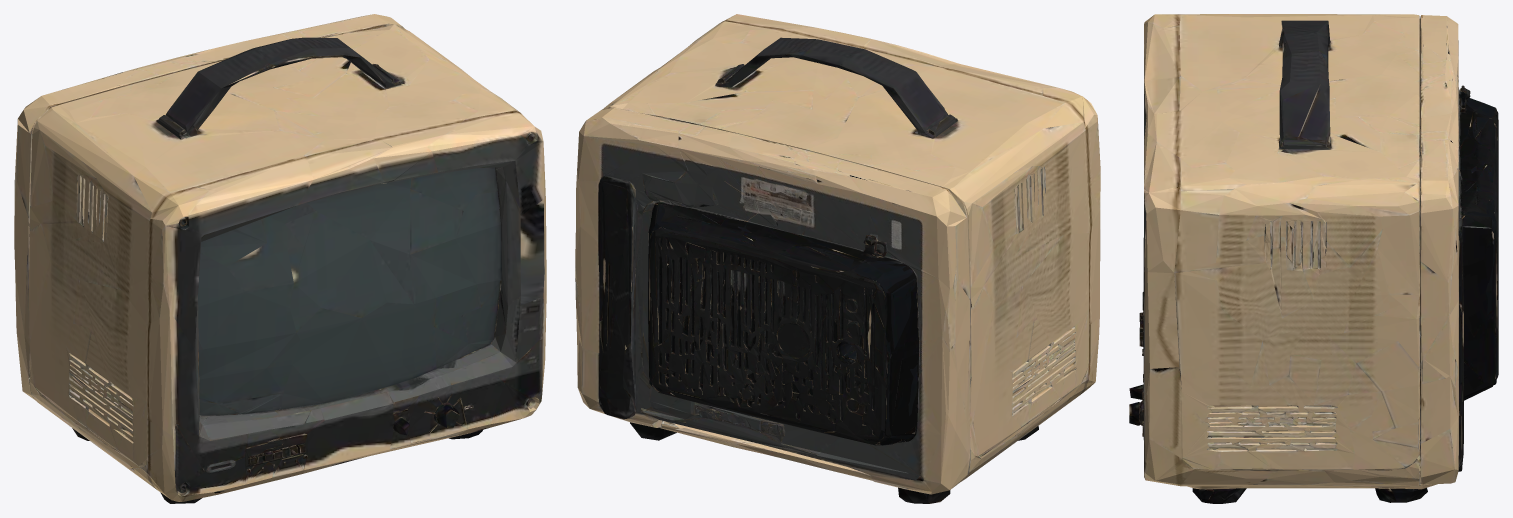
The picture shows the model from 3 angles, left to right: view 1: azimuth 30°, elevation 25°; view 2: azimuth 150°, elevation 25°; view 3: azimuth 270°, elevation 25°; orthographic projection. The views are drawn at different scales.
Size of the model in its own units: 1.9 by 1.81 by 1.55.
1 material, 1 textured.
